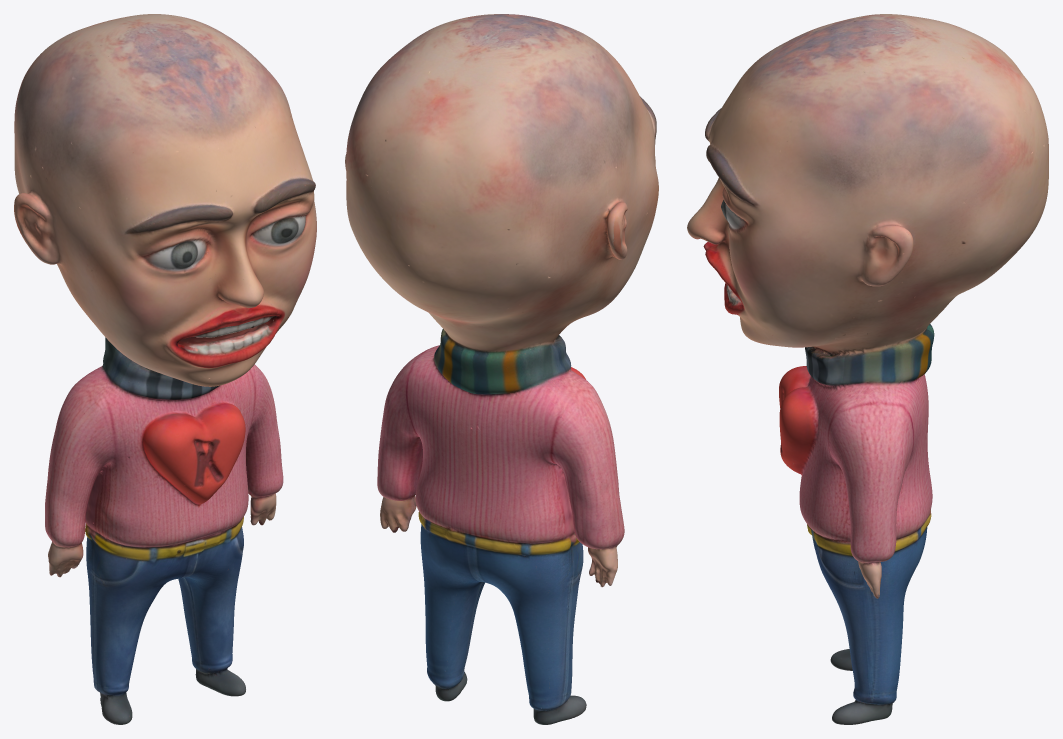
Rendered from Meshy_AI_K_Heart_0423131233_texture.glb.
3 views of the same model, side by side, from view 1: azimuth 30°, elevation 25°; view 2: azimuth 150°, elevation 25°; view 3: azimuth 270°, elevation 25° (orthographic). The views are drawn at different scales.
Size of the model in its own units: 0.845 by 2 by 0.9906.
Materials: 1 (1 with a texture image).
